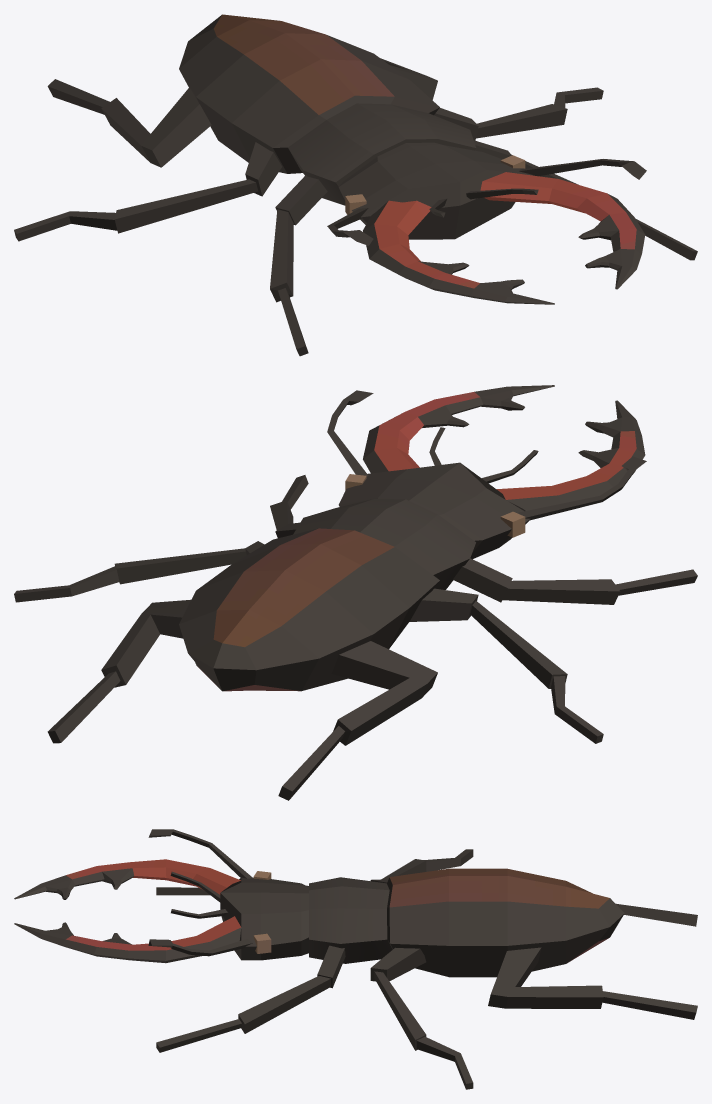
Rendered from Beetle.glb.
3 renders of one model, top to bottom at view 1: azimuth 30°, elevation 25°; view 2: azimuth 150°, elevation 25°; view 3: azimuth 270°, elevation 25°, orthographic. The views are drawn at different scales.
Visible parts, largest first — view 1: Geo_Beetle; view 2: Geo_Beetle; view 3: Geo_Beetle.
Boxes of the visible parts, bbox=[...] form: Geo_Beetle: bbox=[14, 14, 697, 356]; Geo_Beetle: bbox=[14, 385, 697, 800]; Geo_Beetle: bbox=[14, 829, 697, 1089].
Bounding box in the file's own units: 87.42 × 17.05 × 108.
Materials: 1 (1 with a texture image).
